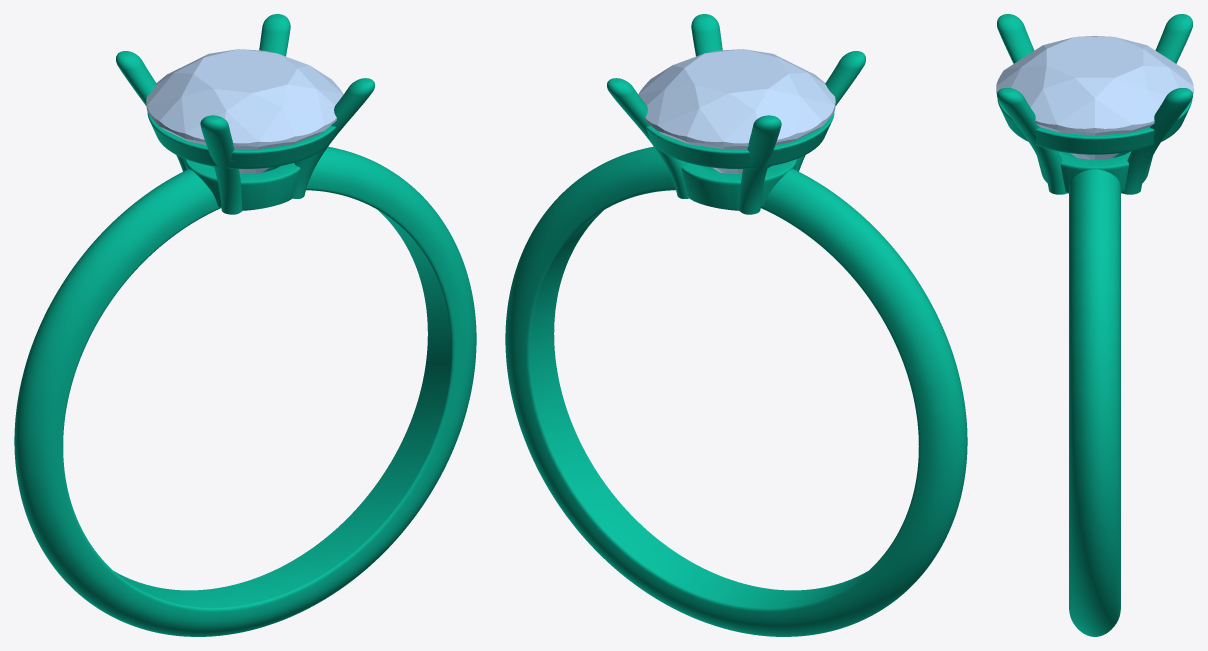
3 renders of one model, left to right at view 1: azimuth 30°, elevation 25°; view 2: azimuth 150°, elevation 25°; view 3: azimuth 270°, elevation 25°, orthographic.
Parts seen in each view (by area): view 1: 4.3dm, Diamond_Round; view 2: 4.3dm, Diamond_Round; view 3: 4.3dm, Diamond_Round.
Part boxes in pixels (x1,y1,x2,y2): 4.3dm: (14,14,476,636); Diamond_Round: (146,49,343,173); 4.3dm: (505,14,967,636); Diamond_Round: (638,49,835,173); 4.3dm: (997,14,1192,636); Diamond_Round: (996,36,1193,159).
Size of the model in its own units: 2.52 by 2.96 by 0.9472.
